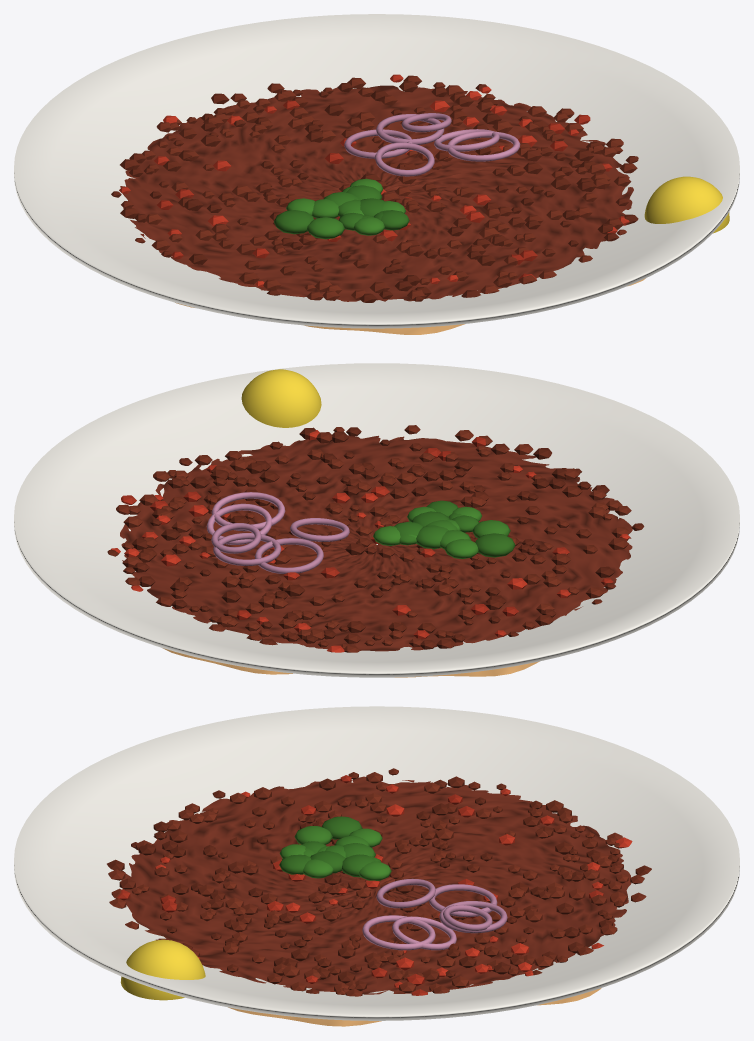
Rendered from lahmacun.glb.
The picture shows the model from 3 angles, top to bottom: view 1: azimuth 30°, elevation 25°; view 2: azimuth 150°, elevation 25°; view 3: azimuth 270°, elevation 25°; orthographic projection.
Parts seen in each view (by area): view 1: tabak, hamur, kiyma, maydanoz, sumakli-sogan, limon; view 2: tabak, hamur, kiyma, sumakli-sogan, maydanoz, limon; view 3: tabak, hamur, kiyma, maydanoz, sumakli-sogan, limon.
Boxes of the visible parts, x1,y1,x2,y2 form: tabak: (14,14,739,328); hamur: (120,85,645,334); kiyma: (111,74,638,302); maydanoz: (274,178,409,239); sumakli-sogan: (344,113,520,176); limon: (644,176,729,233); tabak: (14,363,739,677); hamur: (120,435,632,677); kiyma: (107,425,644,652); sumakli-sogan: (206,492,349,573); maydanoz: (373,500,515,559); limon: (241,369,321,427); tabak: (14,706,739,1020); hamur: (121,776,631,1026); kiyma: (107,768,651,996); maydanoz: (279,816,391,880); sumakli-sogan: (362,878,507,950); limon: (120,939,205,1000).
Bounding box in the file's own units: 0.34 × 0.03 × 0.34.
